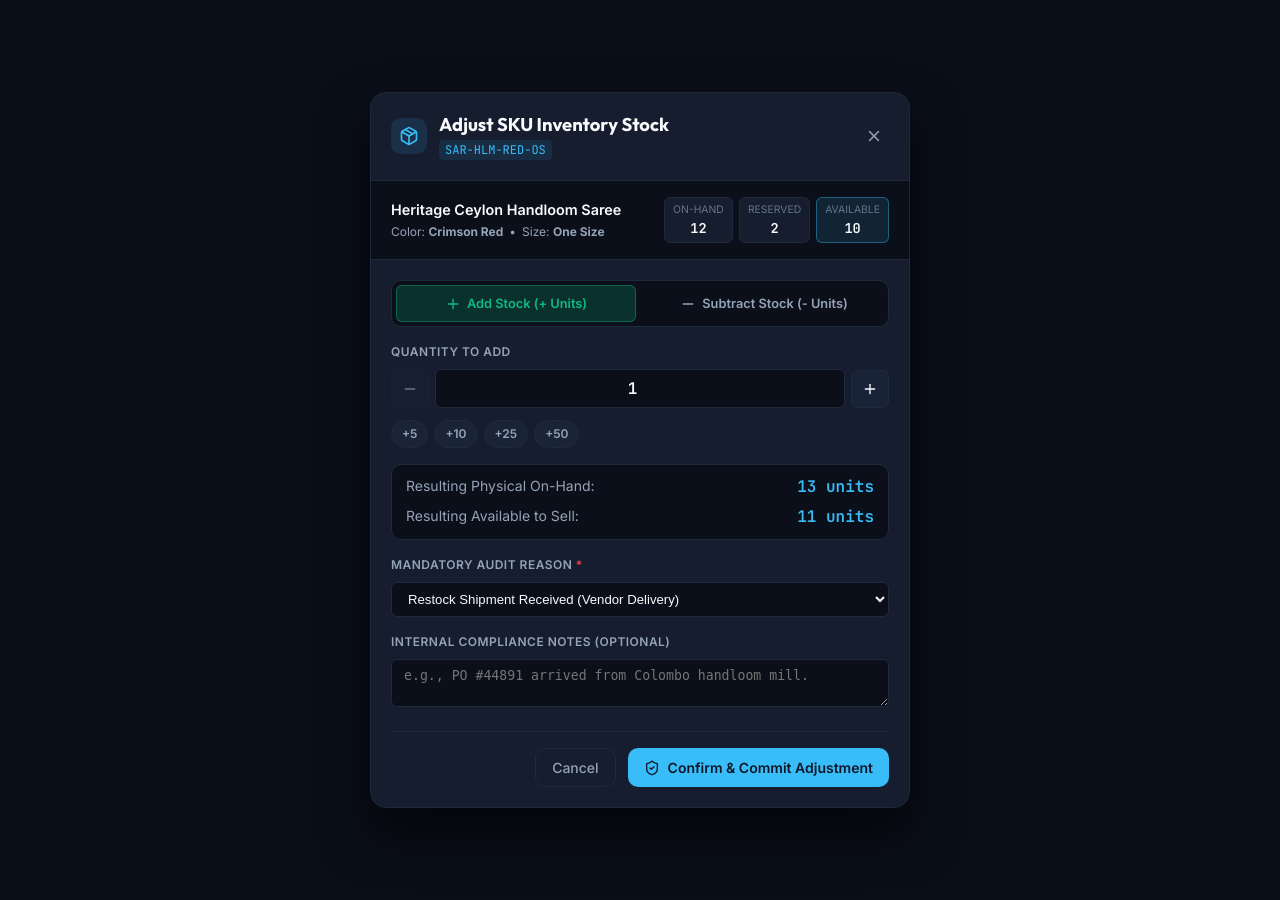
it: STORM-FE-018: Admin Inventory Restock Matrix, SKU Variant Stock Adjustment & Low-Stock Alerts › AC3: StockAdjustmentModal & Mandatory Audit Reason › allows toggling between Add (+) and Subtract (-) units and previews resulting stock
Expected: the text with test id "resulting-onhand" reads "13 units", [797,475,874,499]
# Toggle Subtract
Click the button with test id "toggle-subtract-stock".
click(764, 304)  # box [644,285,884,322]
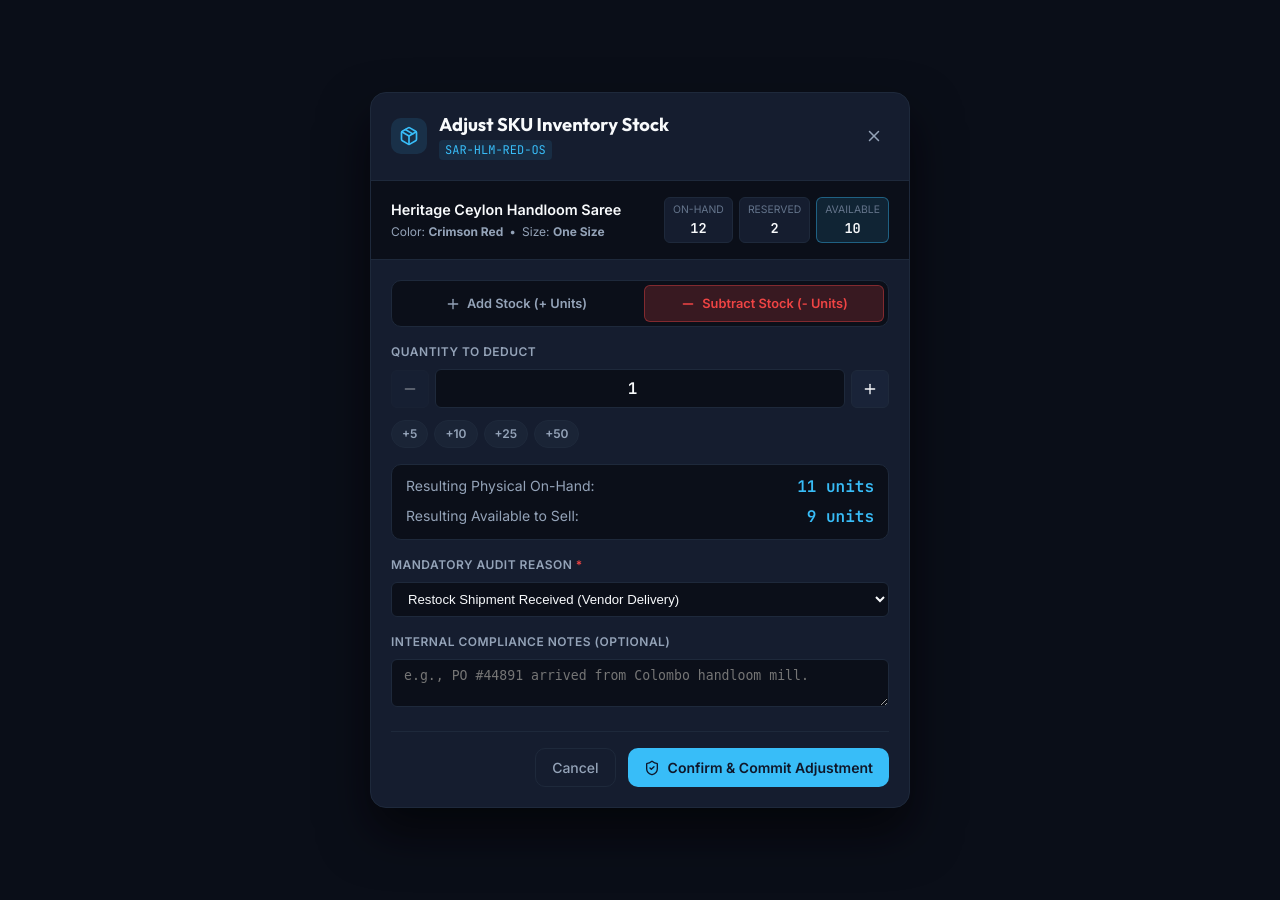
Result: the text with test id "resulting-onhand" reads "11 units" at [797,475,874,499]
